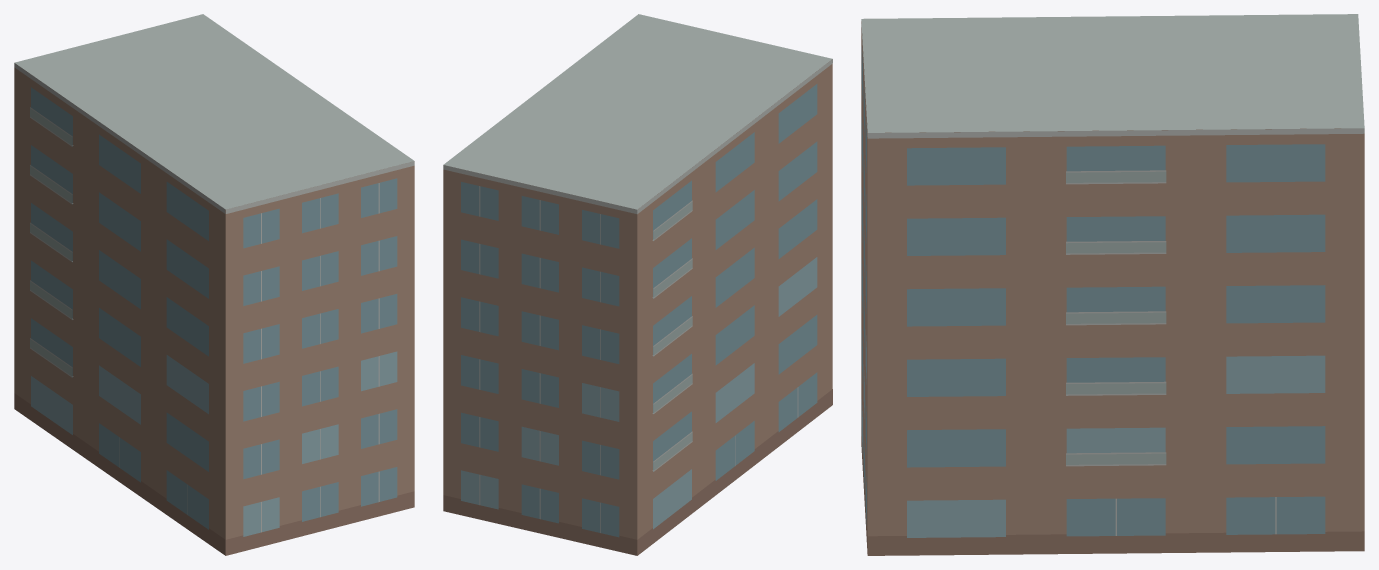
Rendered from survey-upis-32760811.glb.
3 views of the same model, side by side, from view 1: azimuth 30°, elevation 25°; view 2: azimuth 150°, elevation 25°; view 3: azimuth 270°, elevation 25° (orthographic). The views are drawn at different scales.
Visible parts, largest first — view 1: survey-upis-32760811.tmp; view 2: survey-upis-32760811.tmp; view 3: survey-upis-32760811.tmp.
Boxes of the visible parts, bbox=[...] form: survey-upis-32760811.tmp: bbox=[14, 14, 414, 555]; survey-upis-32760811.tmp: bbox=[443, 14, 832, 555]; survey-upis-32760811.tmp: bbox=[861, 14, 1364, 555].
Bounding box in the file's own units: 11.05 × 18.3 × 19.75.
